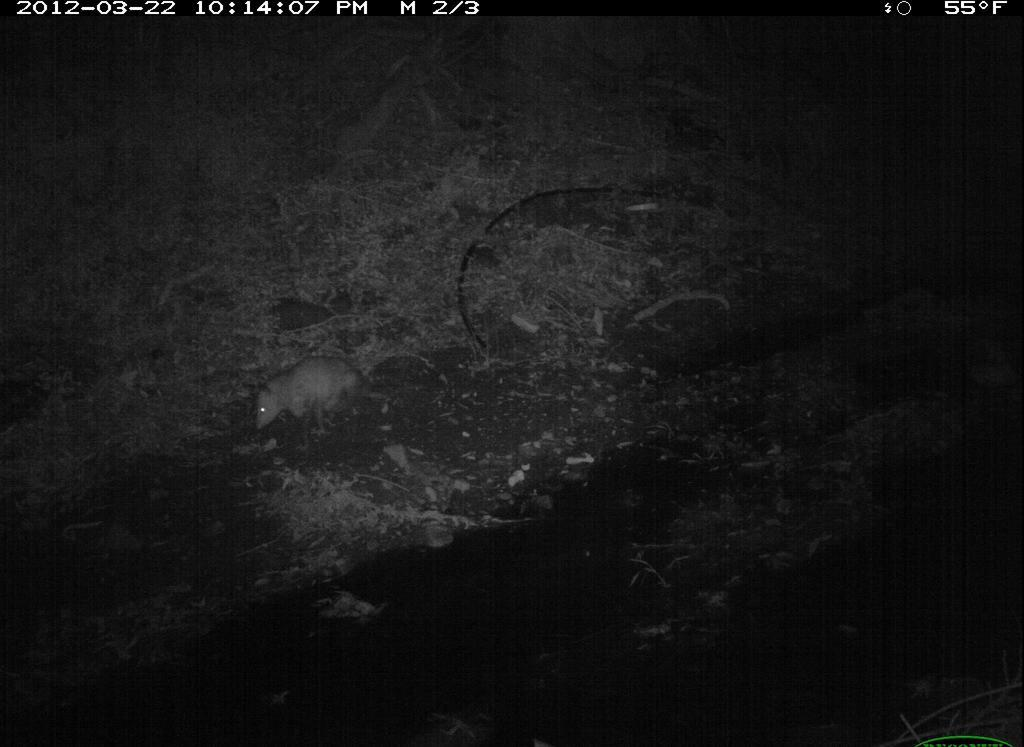opossum: (232, 341, 379, 455)
